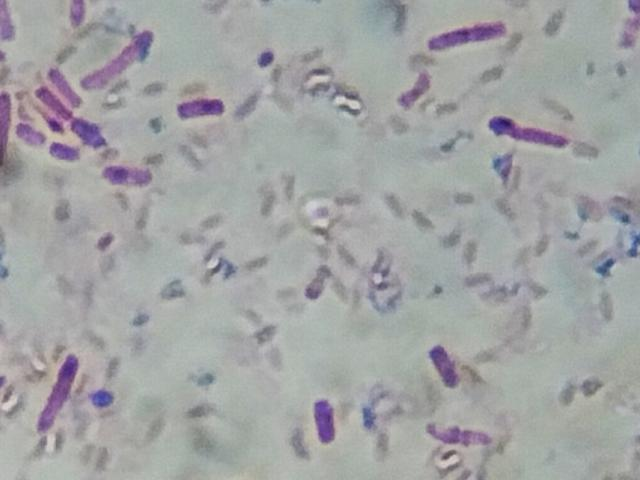E. coli: (82, 29, 164, 90), (38, 348, 81, 427), (427, 15, 504, 52), (494, 119, 572, 151), (393, 68, 435, 117), (176, 89, 225, 125), (432, 341, 463, 391), (100, 158, 148, 188), (37, 84, 72, 117), (314, 396, 337, 446), (49, 66, 78, 101), (0, 84, 12, 166), (17, 124, 56, 149), (73, 114, 97, 150), (44, 141, 76, 162), (67, 4, 89, 31)
